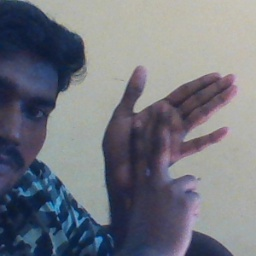N: (91, 63, 239, 221)
